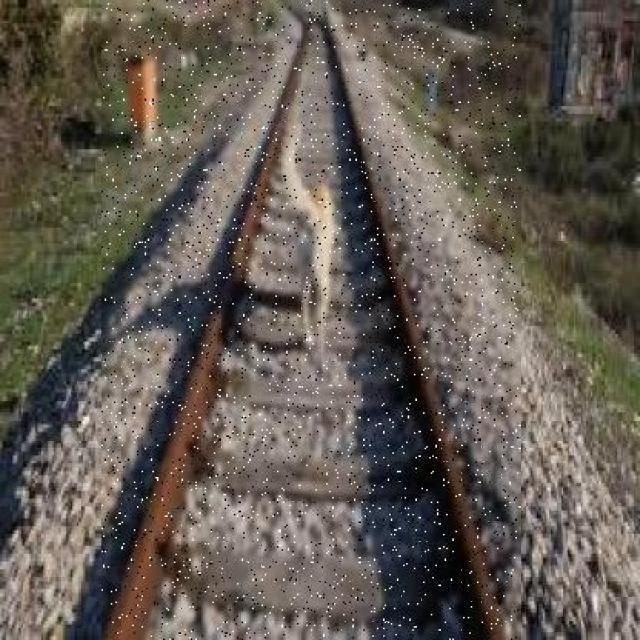rail: (102, 1, 521, 640)
